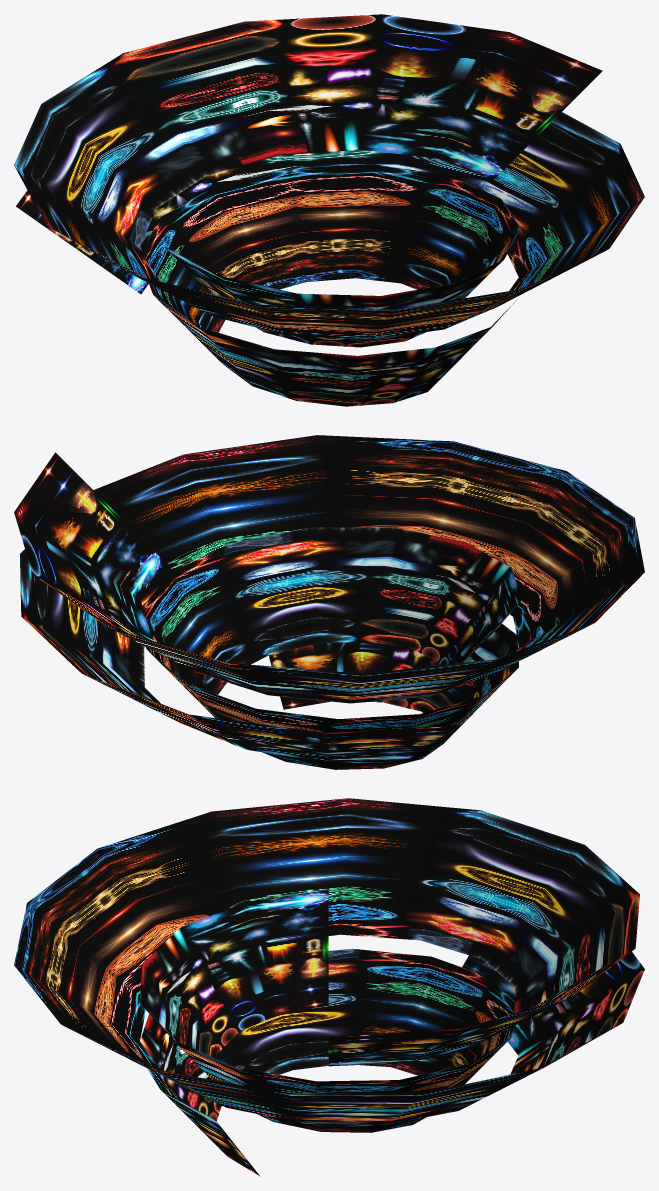
The model's file is zhuan1.FBX.
The picture shows the model from 3 angles, top to bottom: view 1: azimuth 30°, elevation 25°; view 2: azimuth 150°, elevation 25°; view 3: azimuth 270°, elevation 25°; orthographic projection.
Parts seen in each view (by area): view 1: polySurface1; view 2: polySurface1; view 3: polySurface1.
Boxes of the visible parts, x1,y1,x2,y2 form: polySurface1: (14,14,644,406); polySurface1: (14,435,644,769); polySurface1: (14,798,644,1176).
Size of the model in its own units: 1.41 by 0.5765 by 1.41.
